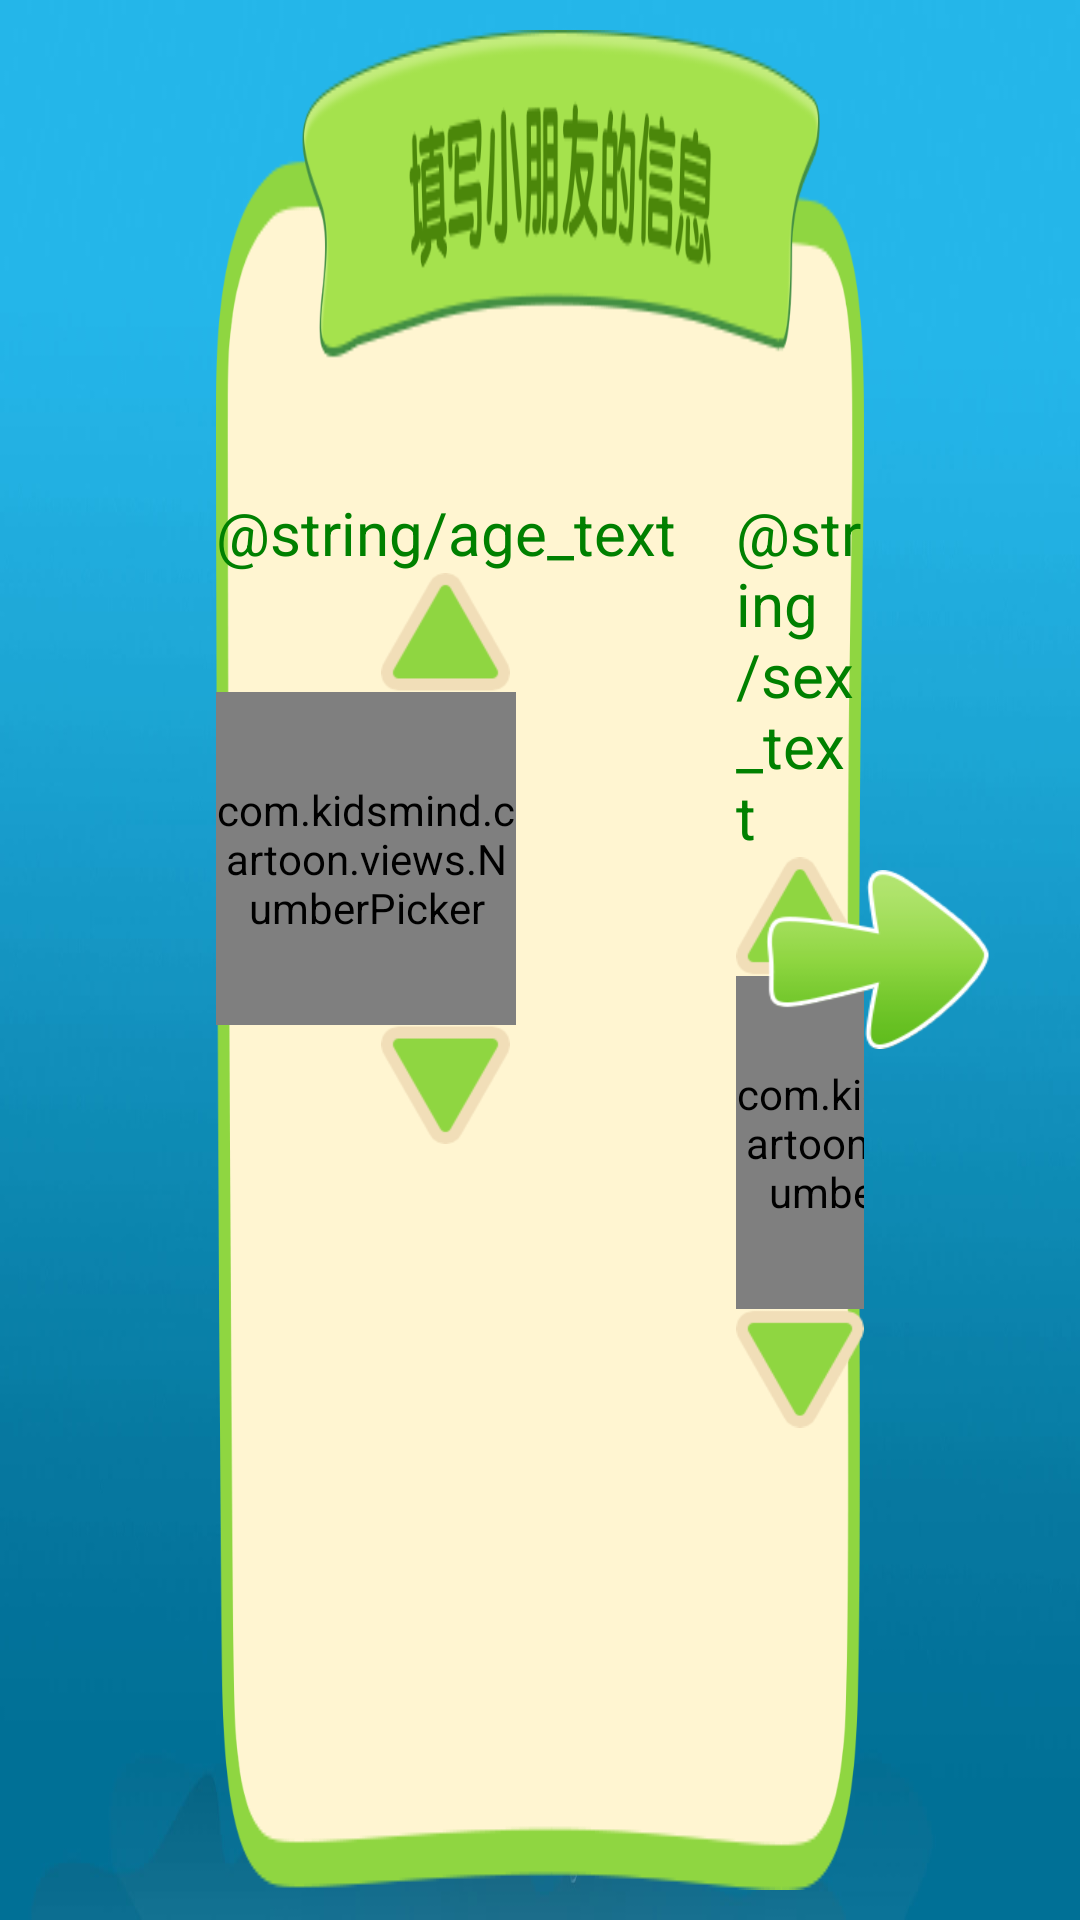

Named icons in this screenshot (1080px x 1920px) and their centers, [x,y]:
down: [445,1084], [800,1368]
